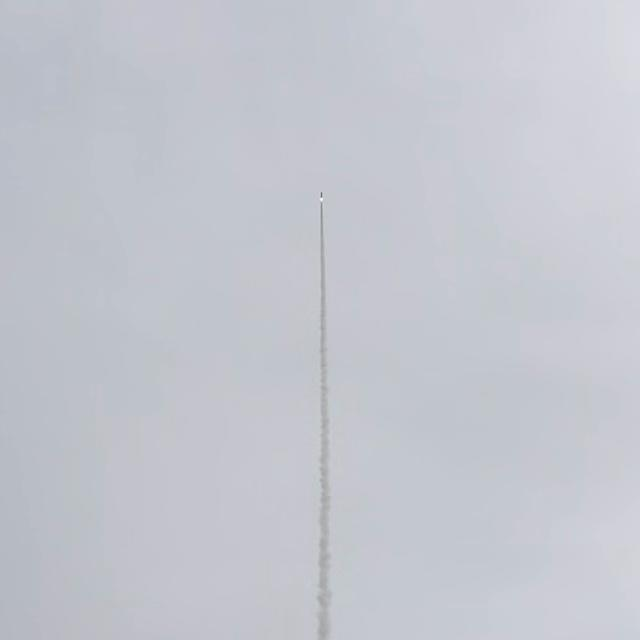smoke_trail_with_rocket: (315, 264, 331, 640)
